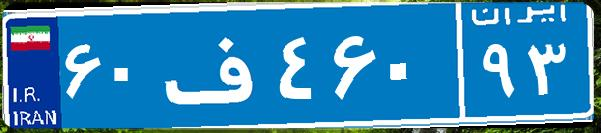0: (385, 28, 445, 110), (110, 28, 158, 105)
3: (525, 38, 570, 115)
4: (273, 28, 330, 110)
6: (330, 28, 385, 110), (57, 26, 110, 107)
9: (475, 38, 525, 113)
ف: (158, 15, 273, 115)
